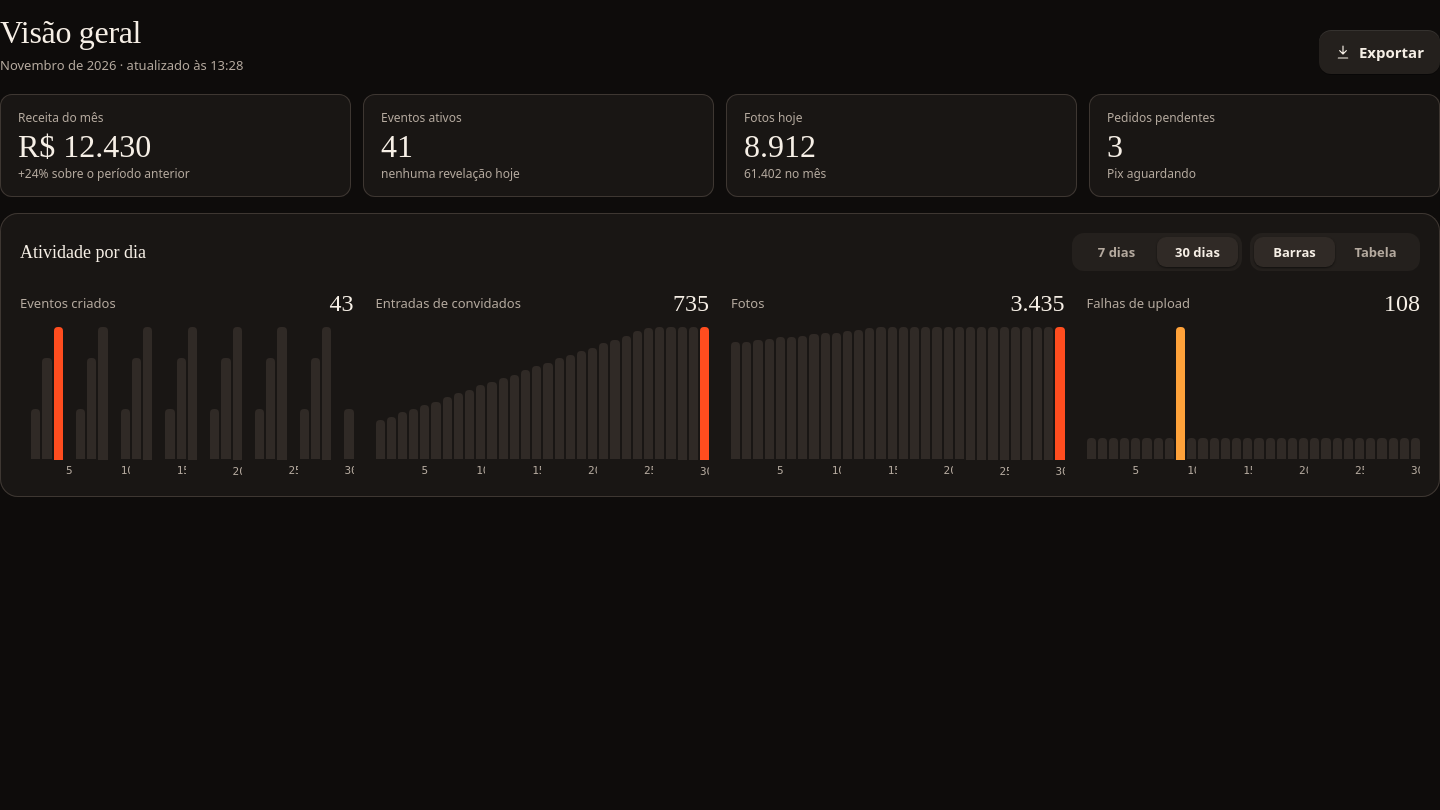
M20 Visão geral: permissão por papel e por bloco › master: receita, pedidos pendentes e Exportar (que abre a folha)
The image size is (1440, 810).
expect the heading "Visão geral" is shown: met, box [0,14,141,50]
expect the heading "Atividade por dia" is shown: met, box [20,238,146,266]
Click the button "Exportar" at [1380, 52], box [1319,30,1439,74]
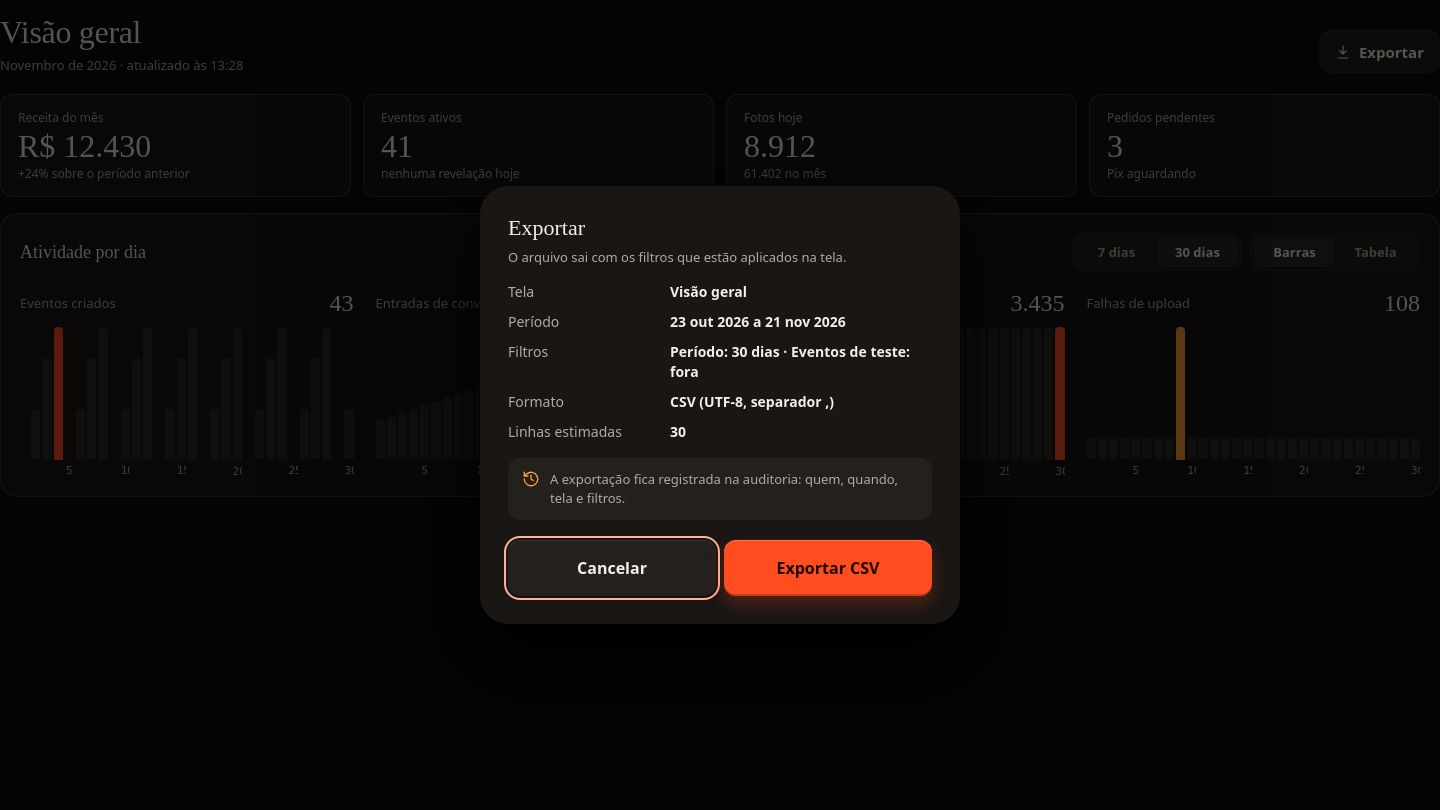
expect the dialog "Exportar" is shown: met, box [480,186,960,624]
